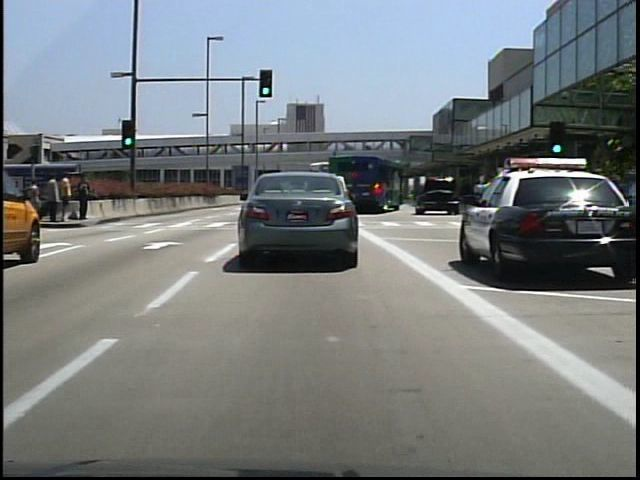person: (77, 172, 95, 224), (27, 178, 46, 225), (46, 173, 63, 224), (59, 170, 75, 223)
